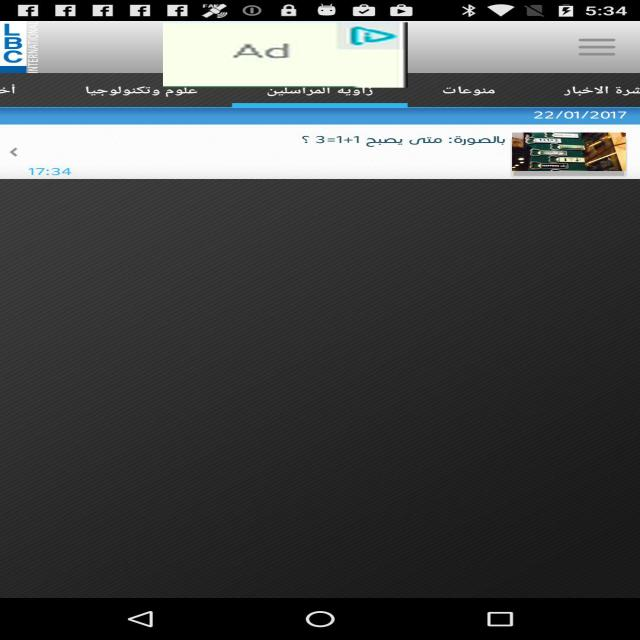sneaking: (163, 22, 408, 88)
